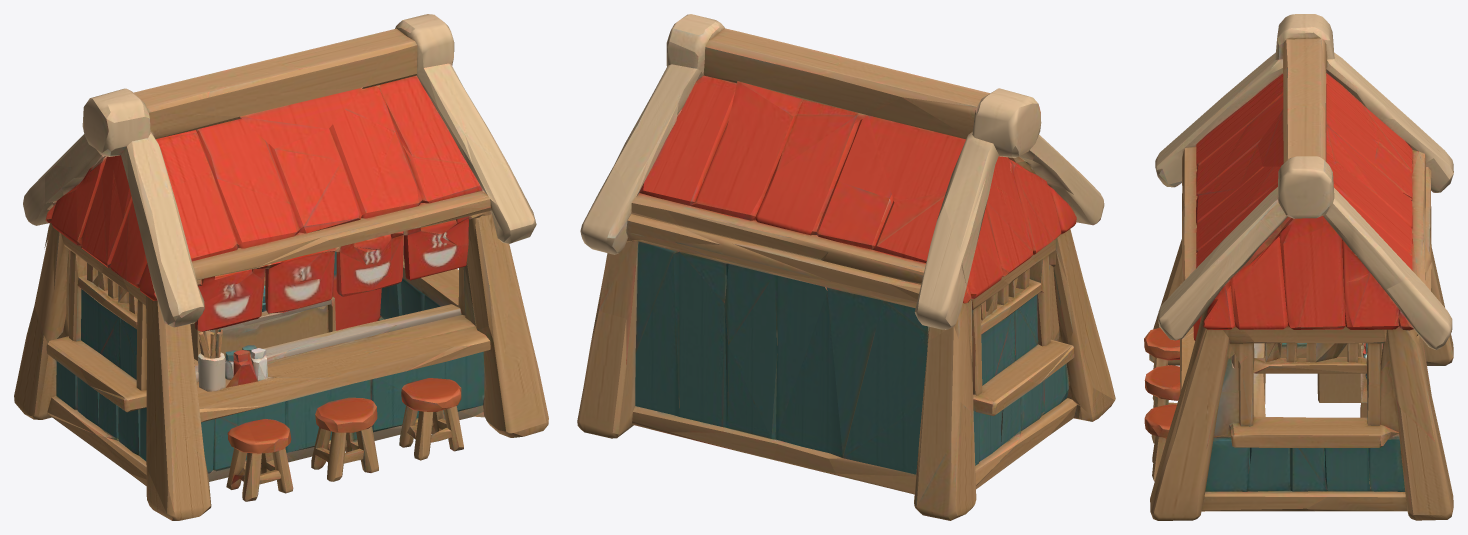
The model's file is tavernStall.glb.
The picture shows the model from 3 angles, left to right: view 1: azimuth 30°, elevation 25°; view 2: azimuth 150°, elevation 25°; view 3: azimuth 270°, elevation 25°; orthographic projection. The views are drawn at different scales.
Visible parts, largest first — view 1: Mesh_0; view 2: Mesh_0; view 3: Mesh_0.
Part boxes in pixels (left/top/right/bottom): Mesh_0: left=14, top=14, right=548, bottom=520; Mesh_0: left=577, top=14, right=1115, bottom=520; Mesh_0: left=1144, top=14, right=1453, bottom=520.
Size of the model in its own units: 3 by 2.69 by 2.22.
1 material, 1 textured.
